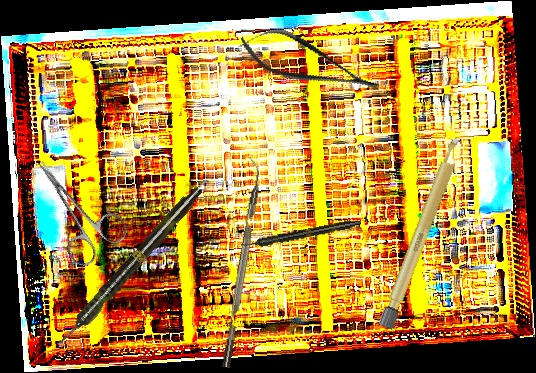Chopper: (211, 157, 267, 368)
Handpiece: (53, 182, 207, 350), (240, 217, 362, 251)
Iris Scissors: (16, 142, 132, 271)
Micro Scissor: (233, 16, 385, 111)
Scalpel Handle: (377, 133, 467, 331)
